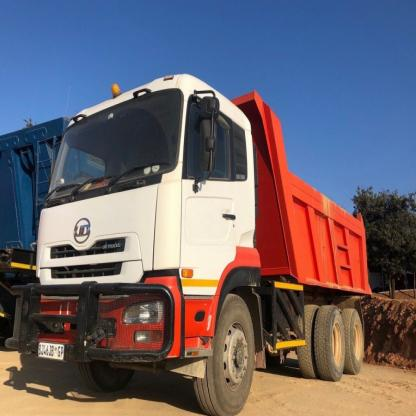dump_truck: (6, 67, 377, 416)
